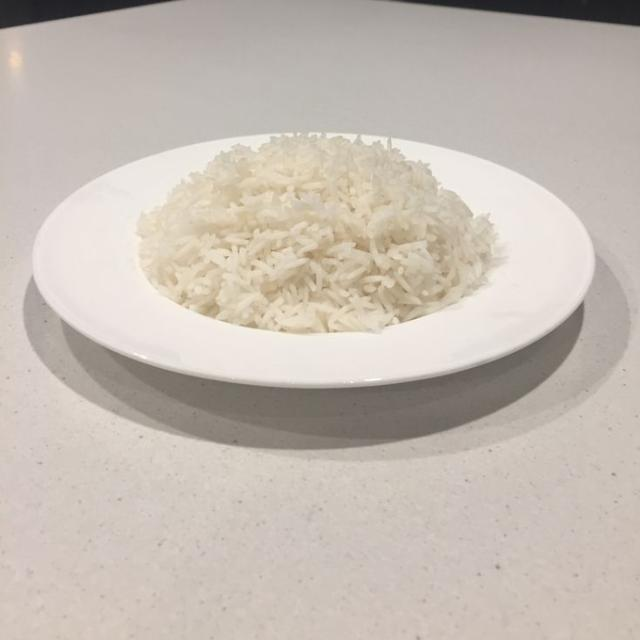rice: (139, 135, 494, 332)
